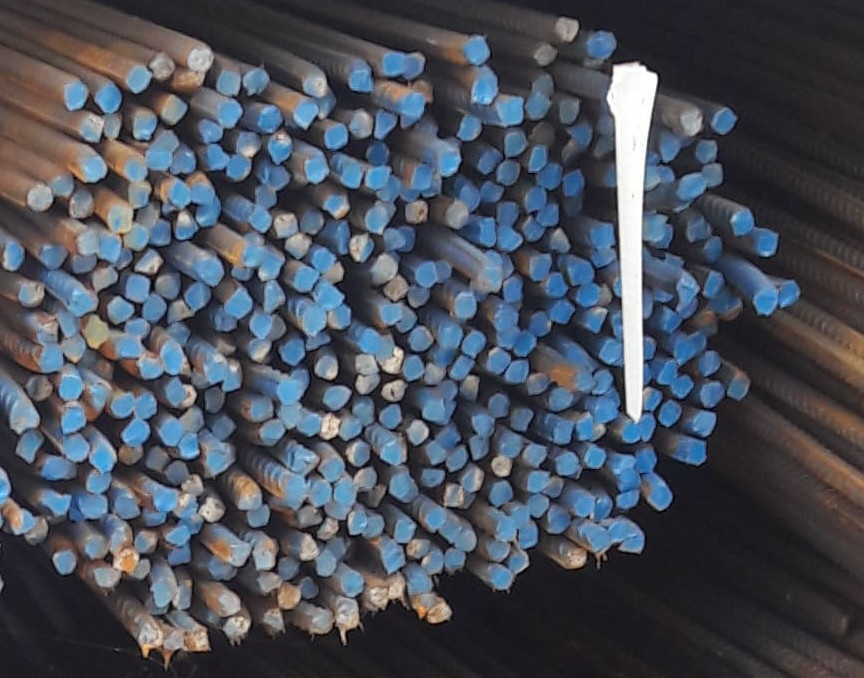dipstick: (472, 72, 499, 104), (389, 473, 419, 500), (160, 95, 188, 123), (588, 32, 616, 60), (77, 493, 106, 520), (496, 96, 522, 126), (61, 405, 86, 436), (210, 591, 241, 616), (304, 304, 328, 336), (287, 447, 320, 470), (106, 205, 133, 233), (225, 290, 252, 318), (675, 275, 696, 311), (96, 83, 122, 112), (185, 281, 211, 310), (204, 446, 230, 475), (575, 413, 604, 439), (267, 133, 292, 163), (87, 313, 109, 347), (42, 457, 76, 479), (336, 598, 360, 629), (70, 190, 93, 222), (678, 174, 706, 200), (226, 156, 255, 181), (41, 491, 70, 516), (350, 109, 373, 140), (305, 153, 328, 184), (161, 342, 184, 373), (381, 438, 407, 465), (464, 36, 489, 64), (11, 405, 39, 430), (332, 220, 351, 256), (264, 281, 286, 312), (201, 256, 223, 287), (284, 474, 304, 508), (18, 282, 44, 308), (123, 419, 149, 445), (316, 284, 343, 309), (40, 244, 67, 269), (323, 386, 350, 411), (261, 420, 286, 447), (498, 225, 523, 252), (524, 94, 551, 119), (98, 233, 122, 261), (437, 321, 461, 349), (91, 444, 115, 472), (18, 432, 42, 460), (208, 556, 236, 580), (679, 108, 702, 137), (175, 210, 196, 241), (2, 240, 23, 271), (325, 192, 351, 217), (133, 111, 157, 138), (168, 181, 192, 208), (125, 274, 149, 301), (143, 295, 167, 322), (247, 311, 271, 338), (340, 570, 364, 597), (382, 544, 406, 571), (547, 507, 571, 534), (567, 261, 594, 285), (687, 216, 711, 243), (546, 386, 574, 409), (294, 101, 316, 130), (243, 70, 268, 95), (146, 146, 171, 171), (29, 186, 54, 211), (278, 340, 303, 365), (63, 436, 88, 461), (681, 441, 706, 466), (712, 108, 737, 133), (218, 102, 242, 128), (377, 175, 401, 201), (107, 299, 133, 323), (137, 354, 163, 378), (81, 155, 104, 182), (250, 208, 273, 235), (365, 206, 388, 233), (185, 626, 208, 653), (237, 482, 260, 509), (649, 484, 672, 511), (702, 271, 725, 298), (65, 81, 87, 109), (375, 110, 397, 138), (279, 376, 301, 404), (160, 419, 182, 447), (529, 253, 551, 281), (593, 222, 615, 250), (260, 106, 281, 135), (237, 132, 261, 157), (365, 166, 390, 190), (372, 256, 396, 281), (136, 250, 161, 274), (153, 488, 178, 512), (476, 150, 500, 175), (458, 115, 482, 140), (556, 18, 581, 42), (658, 401, 682, 426), (295, 266, 318, 292), (285, 235, 311, 258), (60, 375, 83, 401), (249, 396, 275, 419), (111, 392, 134, 418), (347, 442, 373, 465), (494, 307, 520, 330), (529, 124, 555, 147), (538, 163, 561, 189), (701, 381, 724, 407), (754, 288, 777, 314), (68, 292, 96, 313), (778, 281, 799, 309), (188, 47, 212, 71), (216, 71, 240, 95), (302, 74, 326, 98), (325, 124, 349, 148), (274, 213, 298, 237), (461, 332, 485, 356), (278, 404, 302, 428), (91, 380, 109, 412), (115, 494, 139, 518), (471, 415, 495, 439), (478, 217, 496, 249), (151, 55, 174, 80), (265, 165, 288, 190), (157, 274, 180, 299), (56, 312, 79, 337), (60, 337, 85, 360), (379, 404, 402, 429), (525, 371, 548, 396), (350, 235, 372, 261), (28, 374, 50, 400), (55, 549, 77, 575), (530, 75, 556, 97), (694, 411, 716, 437), (406, 573, 433, 594), (498, 159, 519, 186), (660, 135, 680, 163), (729, 373, 749, 401), (127, 67, 150, 91), (350, 70, 373, 94), (260, 257, 284, 280), (93, 267, 117, 290), (202, 388, 225, 412), (10, 512, 34, 535), (487, 350, 511, 373), (595, 398, 618, 422), (551, 300, 574, 324), (504, 131, 527, 155), (197, 201, 219, 226), (402, 357, 424, 382), (86, 472, 111, 494), (85, 536, 110, 558), (533, 45, 558, 67), (696, 312, 718, 337), (81, 116, 102, 142), (300, 213, 326, 234), (411, 325, 432, 351), (42, 346, 63, 372), (278, 581, 299, 607), (491, 481, 512, 507), (552, 418, 573, 444), (643, 216, 664, 242), (701, 237, 722, 263), (732, 209, 753, 235), (439, 148, 459, 175), (624, 527, 644, 554), (637, 446, 657, 473), (718, 299, 741, 322), (199, 120, 223, 142), (401, 93, 425, 115), (365, 143, 389, 165), (315, 356, 337, 380), (133, 530, 155, 554), (153, 580, 175, 604), (202, 497, 224, 521), (309, 480, 331, 504), (582, 446, 606, 468), (558, 98, 580, 122), (598, 339, 620, 363), (454, 293, 475, 318), (36, 319, 57, 344), (134, 394, 155, 419), (298, 506, 323, 527), (335, 479, 356, 504), (525, 187, 546, 212), (695, 138, 716, 163), (173, 71, 202, 89), (165, 377, 183, 406), (341, 163, 361, 189), (447, 201, 467, 227), (107, 527, 127, 553), (253, 542, 273, 568), (441, 516, 460, 543), (319, 87, 335, 119), (173, 150, 195, 173), (204, 145, 226, 168), (129, 183, 151, 206), (51, 173, 73, 196), (451, 356, 474, 378), (117, 336, 140, 358), (311, 608, 334, 630), (366, 587, 388, 610), (588, 532, 611, 554), (556, 451, 578, 474), (507, 360, 529, 383), (496, 202, 518, 225), (563, 170, 585, 193), (583, 308, 606, 330), (659, 310, 682, 332), (123, 158, 147, 179), (191, 183, 215, 204), (462, 185, 480, 213), (77, 230, 98, 254), (356, 398, 374, 426), (394, 518, 415, 542), (463, 467, 484, 491), (486, 539, 510, 560), (530, 312, 550, 337), (225, 360, 241, 391), (416, 261, 435, 287), (448, 446, 467, 472), (658, 359, 677, 385), (675, 337, 694, 363), (300, 533, 318, 560), (505, 278, 523, 305), (382, 53, 404, 75), (181, 409, 203, 431), (174, 494, 196, 516), (247, 506, 269, 528), (527, 494, 549, 516), (242, 245, 265, 266), (358, 330, 379, 353), (316, 518, 339, 539), (322, 457, 343, 480), (528, 470, 549, 493), (571, 495, 594, 516), (481, 268, 502, 291), (481, 183, 504, 204), (139, 205, 159, 229), (147, 447, 167, 471), (389, 569, 405, 599), (408, 420, 428, 444), (639, 412, 655, 442), (30, 518, 49, 543), (95, 567, 120, 586), (224, 615, 249, 634), (527, 146, 546, 171), (560, 143, 585, 162), (404, 55, 422, 81), (411, 165, 429, 191), (124, 319, 150, 337), (318, 551, 336, 577), (314, 250, 336, 271), (214, 418, 235, 440), (166, 463, 188, 484), (263, 608, 284, 630), (355, 468, 377, 489), (437, 427, 458, 449), (491, 568, 513, 589), (415, 79, 435, 102), (406, 202, 426, 225), (386, 277, 406, 300), (327, 309, 350, 329), (71, 254, 94, 274), (250, 338, 270, 361), (168, 547, 191, 567), (444, 485, 464, 508), (516, 332, 536, 355), (641, 388, 661, 411), (703, 163, 723, 186), (151, 221, 170, 245), (382, 381, 406, 400), (347, 511, 366, 535), (524, 217, 543, 241), (549, 272, 567, 297), (385, 349, 402, 375), (256, 188, 277, 209), (380, 302, 401, 323), (501, 435, 522, 456), (384, 229, 404, 251), (215, 308, 235, 330), (356, 355, 378, 375), (357, 374, 379, 394), (341, 417, 361, 439), (166, 526, 188, 546), (230, 543, 250, 565), (425, 442, 445, 464), (496, 519, 518, 539), (489, 393, 509, 415), (620, 420, 640, 442), (698, 351, 718, 373), (757, 232, 777, 254), (103, 116, 122, 139), (128, 227, 147, 250), (258, 573, 281, 592), (498, 329, 521, 348), (320, 413, 338, 437), (118, 446, 142, 464), (178, 516, 202, 534), (424, 550, 442, 574), (520, 525, 538, 549), (615, 489, 639, 507), (551, 230, 569, 254), (208, 358, 225, 383), (168, 323, 189, 343), (116, 550, 136, 571), (423, 467, 444, 487), (564, 548, 585, 568), (408, 287, 430, 306), (301, 412, 320, 434), (139, 626, 158, 648), (425, 508, 444, 530), (595, 371, 614, 393), (576, 286, 598, 305), (673, 375, 692, 397), (306, 335, 329, 353), (433, 350, 456, 368), (398, 309, 415, 333), (460, 378, 477, 402), (413, 593, 433, 613), (525, 444, 544, 465), (512, 409, 531, 430), (181, 435, 199, 457), (408, 540, 430, 558), (471, 436, 489, 458), (607, 520, 625, 542), (439, 380, 458, 400), (510, 551, 529, 571), (574, 373, 594, 392), (563, 196, 583, 215), (572, 122, 591, 142), (423, 401, 444, 419), (144, 509, 165, 527), (444, 550, 465, 568), (619, 471, 640, 489), (595, 135, 613, 156), (177, 582, 190, 611), (592, 251, 617, 266), (642, 290, 654, 321), (155, 132, 178, 148), (426, 174, 442, 197), (595, 498, 611, 521), (164, 631, 183, 650), (539, 206, 558, 225), (184, 475, 202, 495), (457, 531, 475, 551), (598, 285, 613, 309), (429, 605, 450, 622), (436, 259, 451, 282), (368, 514, 383, 537), (369, 484, 384, 507), (327, 539, 346, 557), (301, 578, 318, 598), (660, 223, 673, 249), (378, 336, 392, 360), (646, 165, 660, 189), (611, 312, 623, 339), (134, 558, 151, 577), (612, 457, 635, 471), (604, 164, 618, 187), (280, 558, 296, 578), (512, 506, 528, 526), (216, 341, 237, 356), (271, 318, 284, 342), (597, 116, 614, 134), (493, 456, 509, 474), (643, 338, 656, 360), (425, 365, 443, 379), (402, 115, 417, 130), (549, 478, 563, 494), (692, 334, 705, 351), (404, 226, 413, 250)
